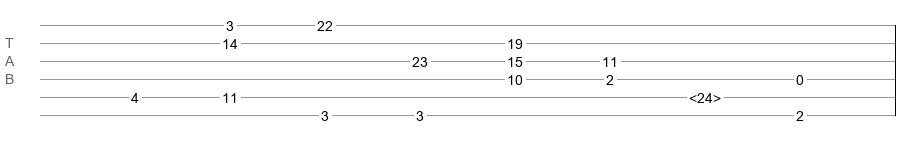0: (796, 72, 804, 82)
10: (507, 72, 523, 82)
11: (222, 90, 238, 100), (602, 54, 618, 64)
14: (222, 36, 238, 46)
15: (507, 54, 523, 64)
19: (507, 36, 523, 46)
2: (606, 72, 614, 82), (796, 108, 804, 118)
22: (317, 18, 333, 28)
23: (412, 54, 428, 64)
3: (226, 18, 234, 28), (321, 108, 329, 118), (416, 108, 424, 118)
4: (131, 90, 139, 100)
harmonic: (689, 90, 721, 100)
